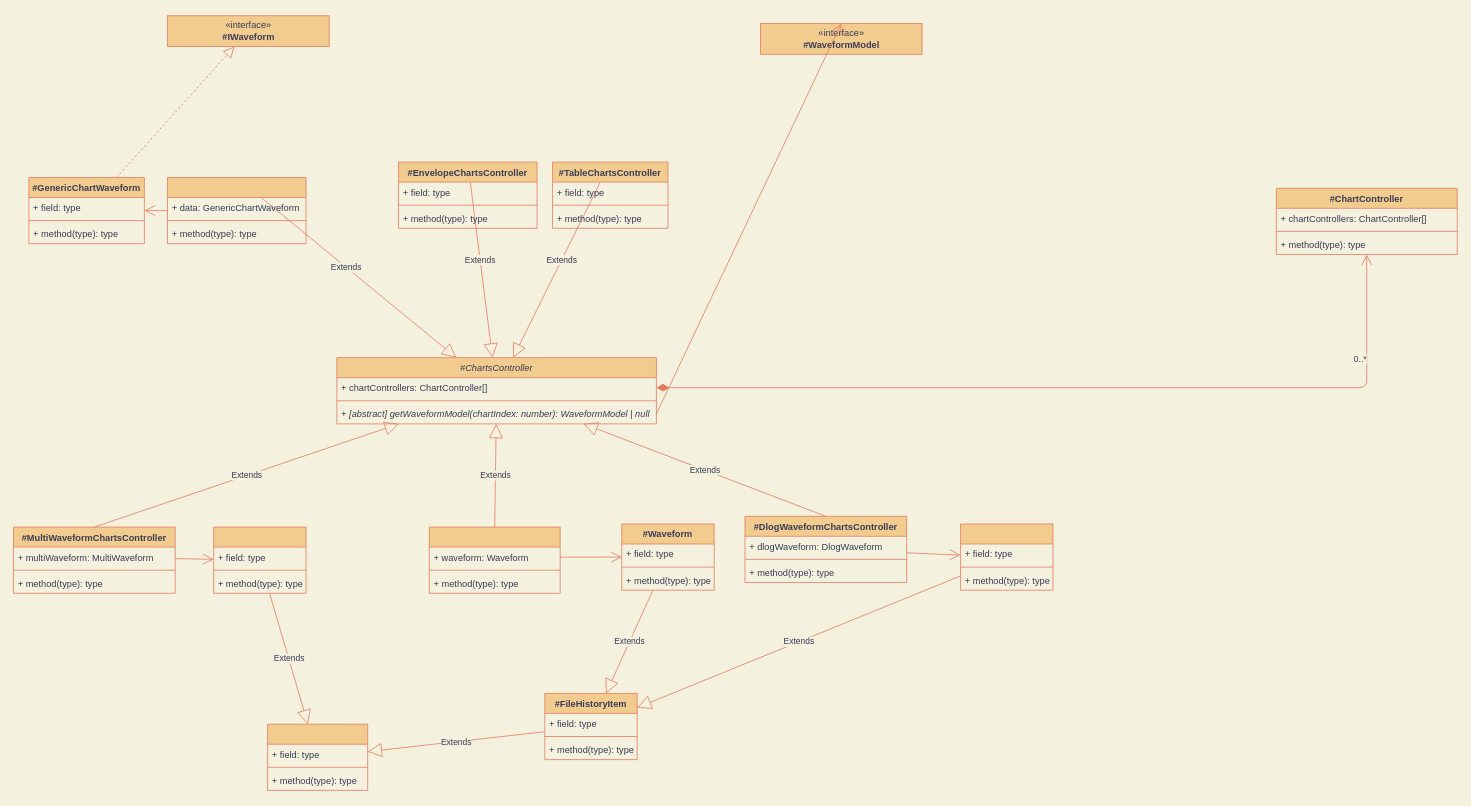
Image size: 1471x806. Some labels were removed from this diagram. The shapes that lost their labels are listed below. From the top down, each one's box as (x1, y1, x2, y2) in pixels, then its label:
(167, 177, 306, 244): #GenericChartChartsController
(213, 526, 306, 593): #MultiWaveform
(429, 526, 560, 593): #WaveformChartsController
(960, 523, 1053, 590): #DlogWaveform
(267, 723, 368, 790): #HistoryItem
